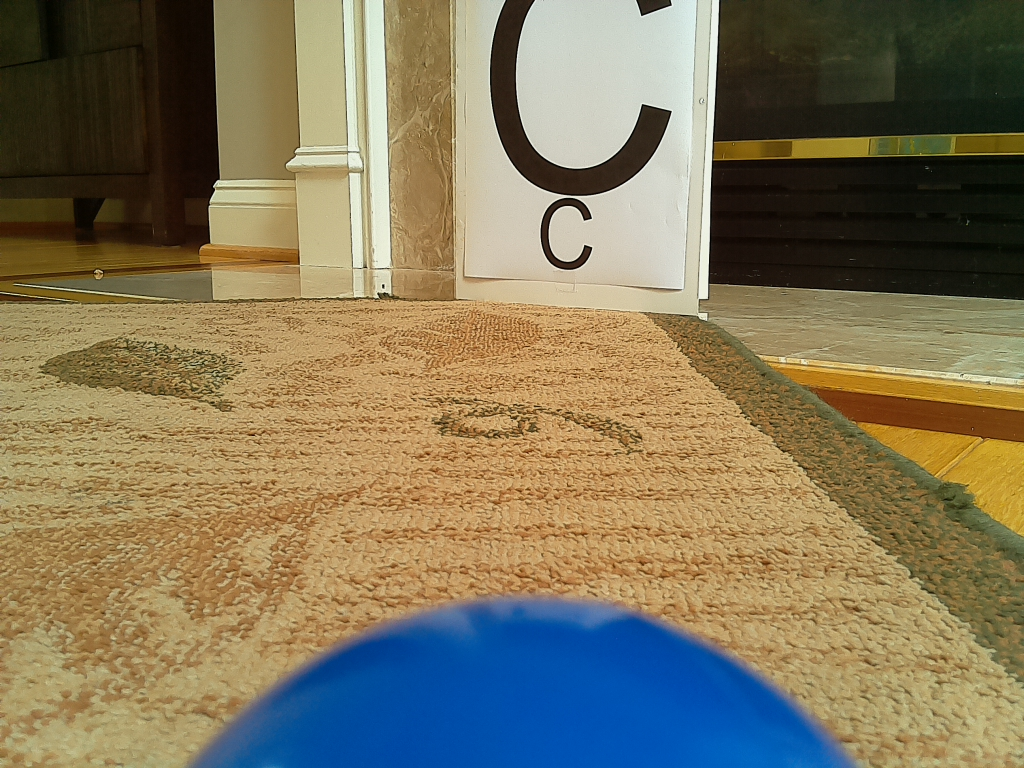letter: (540, 198, 593, 270)
